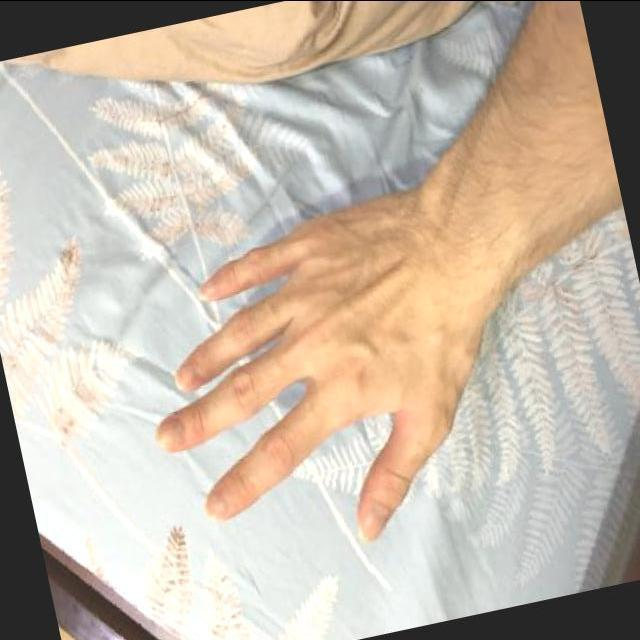hand: (98, 156, 556, 592)
